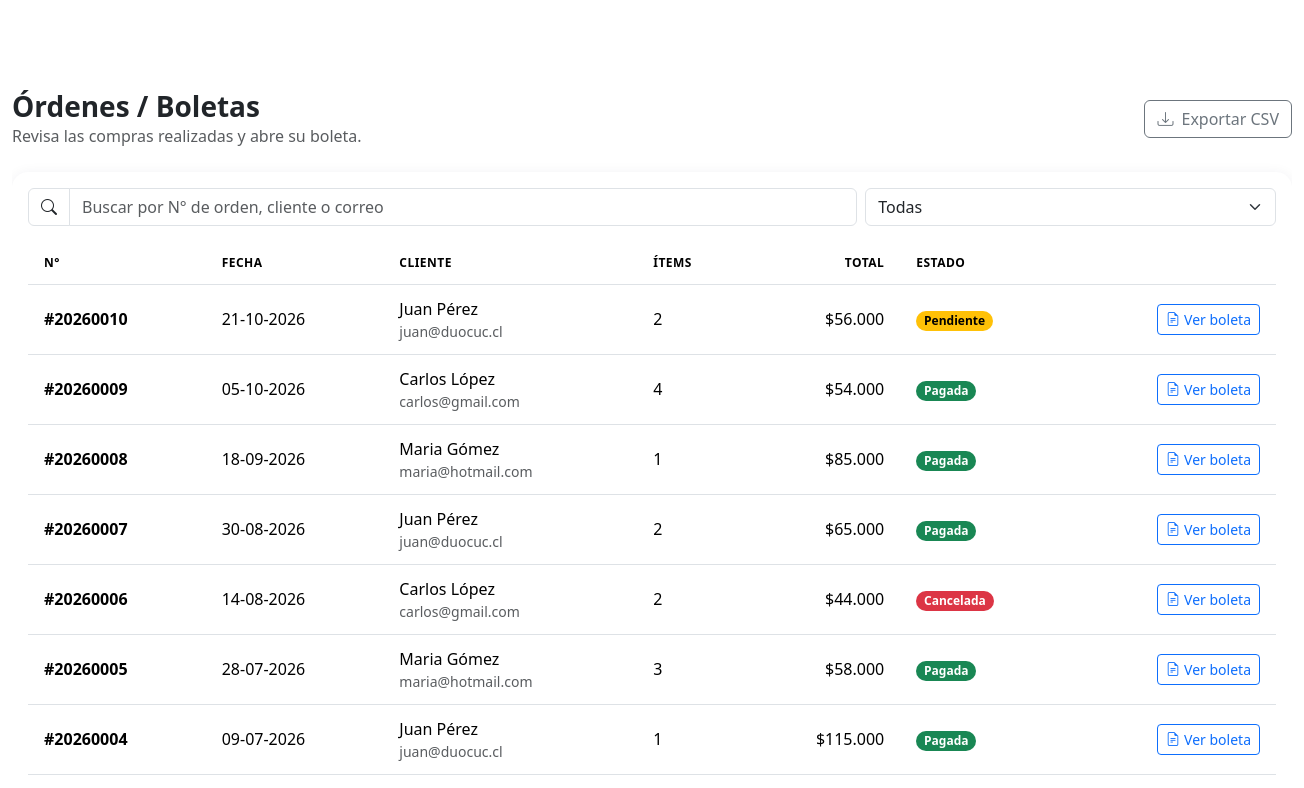
Test: admin/views/OrdenesView › busca por nombre de cliente sin distinguir mayúsculas
Step 1. Type "CARLOS" into the search field named "Buscar órdenes" → (463, 207), box x1=69 y1=188 x2=857 y2=226
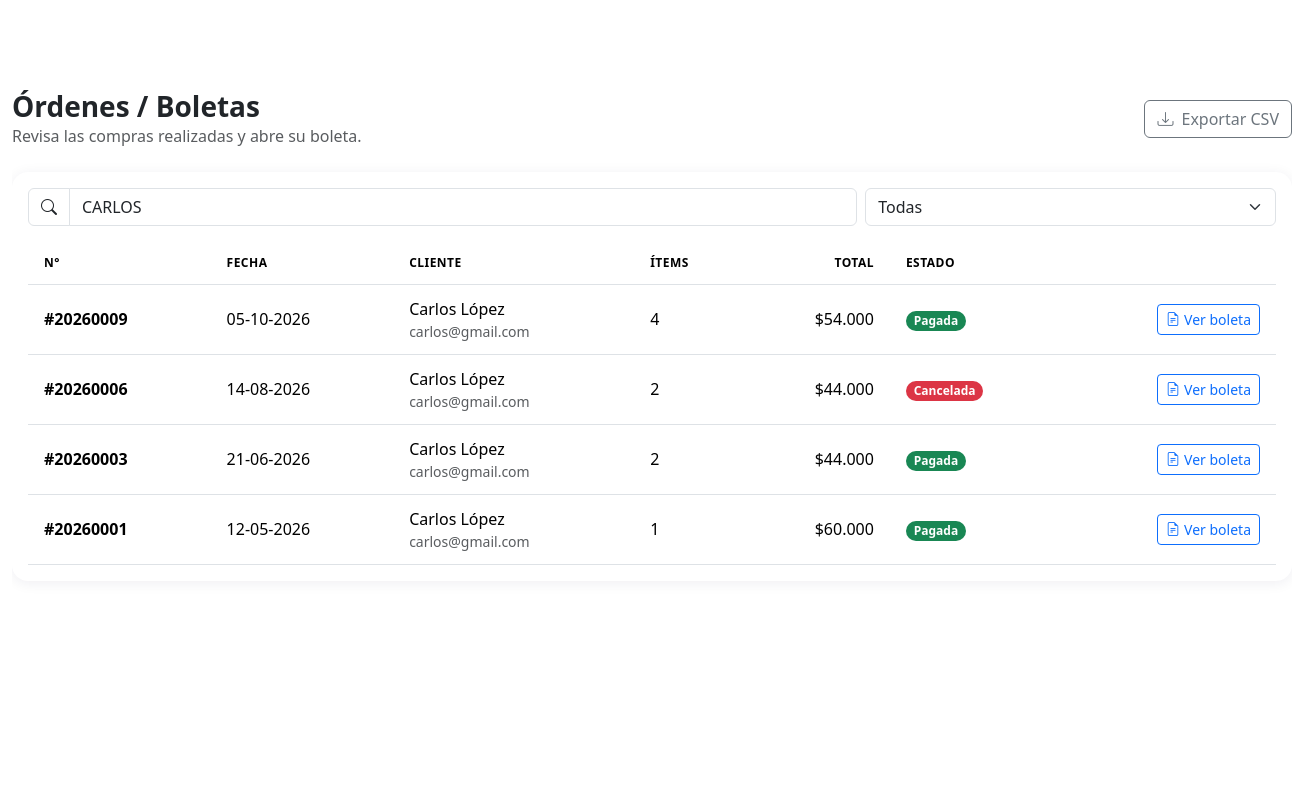
Expected: the number of buttons "Ver boleta" is 4, x1=1157 y1=304 x2=1260 y2=335; x1=1157 y1=374 x2=1260 y2=405; x1=1157 y1=444 x2=1260 y2=475; x1=1157 y1=514 x2=1260 y2=545
